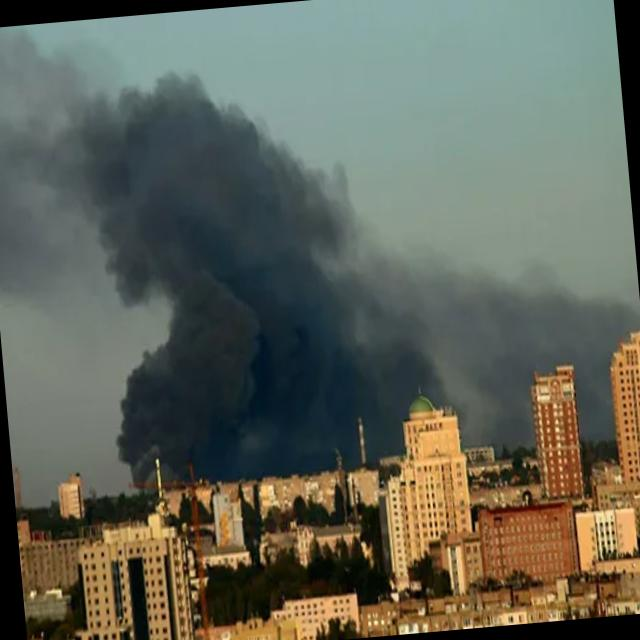Smoke: (66, 46, 472, 488)
